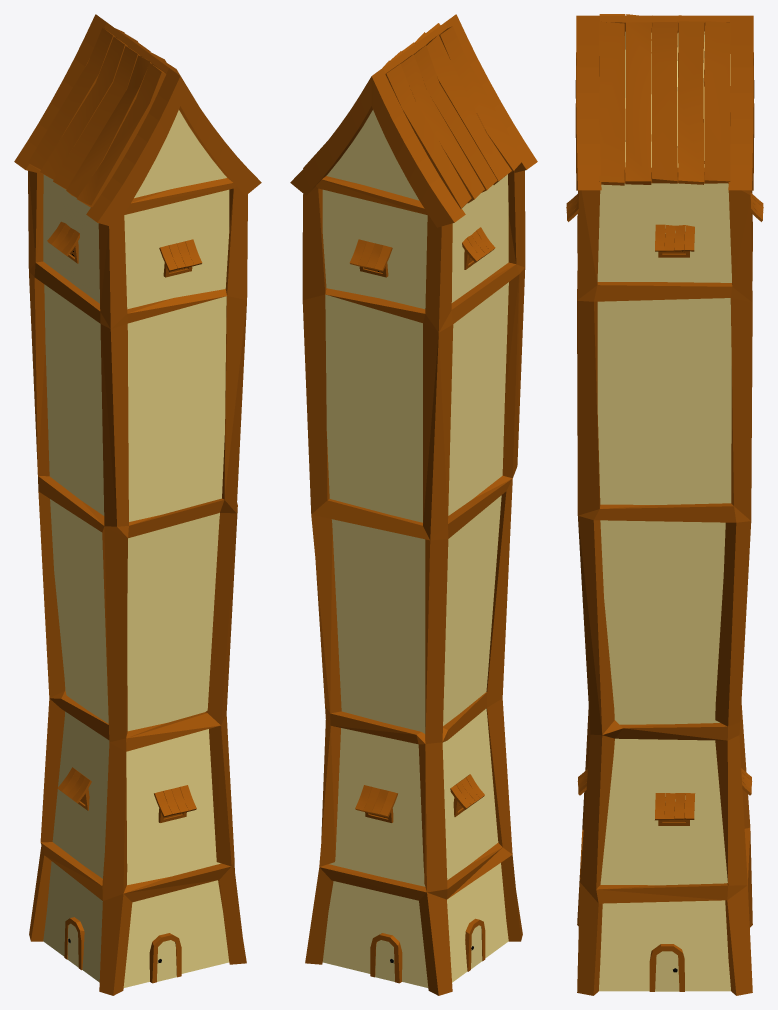
Rendered from Tower.fbx.
The picture shows the model from 3 angles, left to right: view 1: azimuth 30°, elevation 25°; view 2: azimuth 150°, elevation 25°; view 3: azimuth 270°, elevation 25°; orthographic projection. The views are drawn at different scales.
Visible parts, largest first — view 1: Tower; view 2: Tower; view 3: Tower.
Part boxes in pixels (bbox=[...]): Tower: bbox=[14, 14, 261, 995]; Tower: bbox=[290, 14, 537, 995]; Tower: bbox=[566, 14, 763, 995].
Size of the model in its own units: 5.52 by 28.99 by 5.49.
